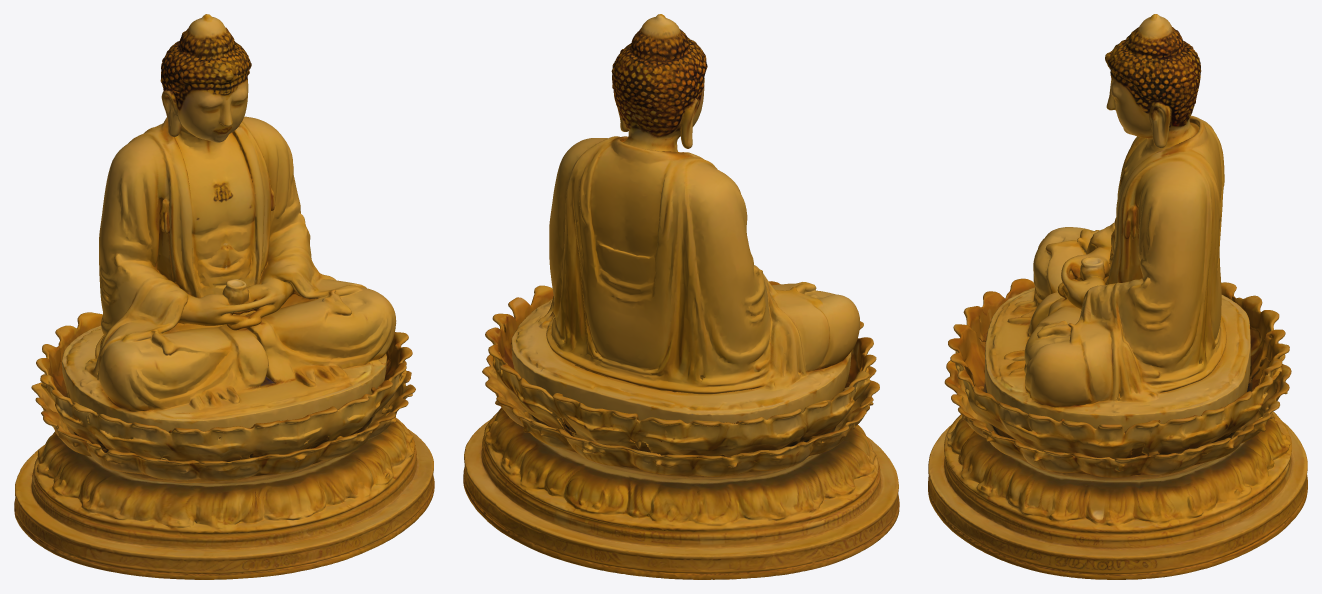
The model's file is amida_tripo.glb.
3 renders of one model, left to right at view 1: azimuth 30°, elevation 25°; view 2: azimuth 150°, elevation 25°; view 3: azimuth 270°, elevation 25°, orthographic. The views are drawn at different scales.
Visible parts, largest first — view 1: tripo_node_dfc02650-5035-4df5-98ad-84ea0b9aaa3c; view 2: tripo_node_dfc02650-5035-4df5-98ad-84ea0b9aaa3c; view 3: tripo_node_dfc02650-5035-4df5-98ad-84ea0b9aaa3c.
Part boxes in pixels (x1,y1,x2,y2): tripo_node_dfc02650-5035-4df5-98ad-84ea0b9aaa3c: [14, 14, 434, 579]; tripo_node_dfc02650-5035-4df5-98ad-84ea0b9aaa3c: [463, 14, 899, 579]; tripo_node_dfc02650-5035-4df5-98ad-84ea0b9aaa3c: [928, 14, 1307, 579].
Size of the model in its own units: 0.8314 by 1 by 0.725.
1 material, 1 textured.
